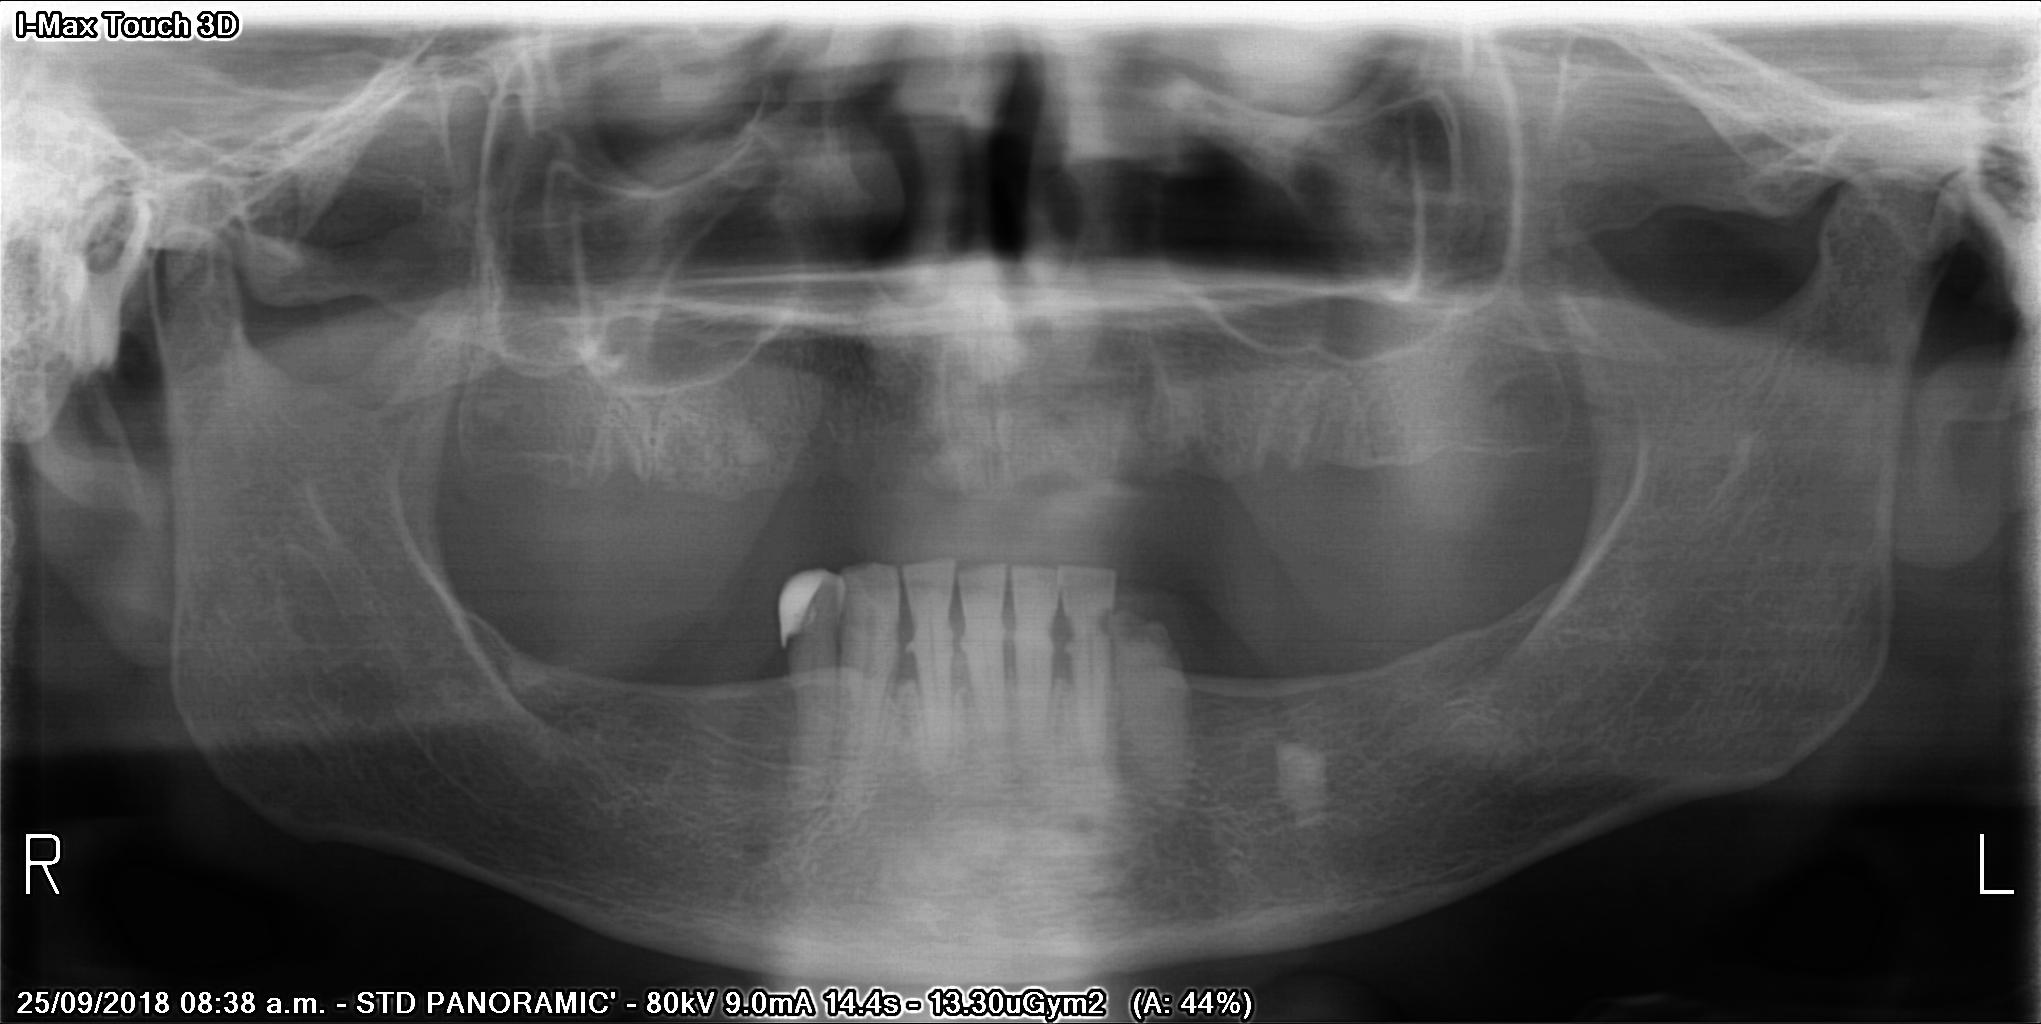Çürük: (769, 562, 833, 650)
Çürük Bölgesi: (1059, 613, 1083, 656), (1043, 613, 1067, 650), (1097, 610, 1120, 643)
